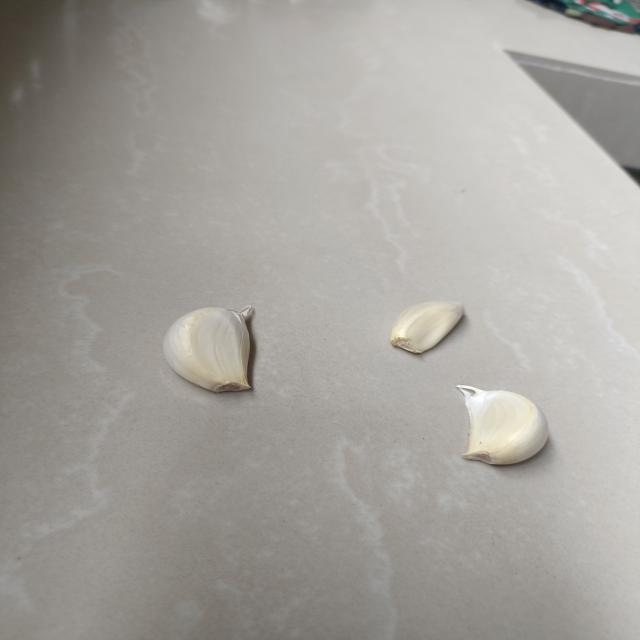garlic: (150, 301, 272, 397), (452, 379, 563, 481), (376, 289, 475, 364)
